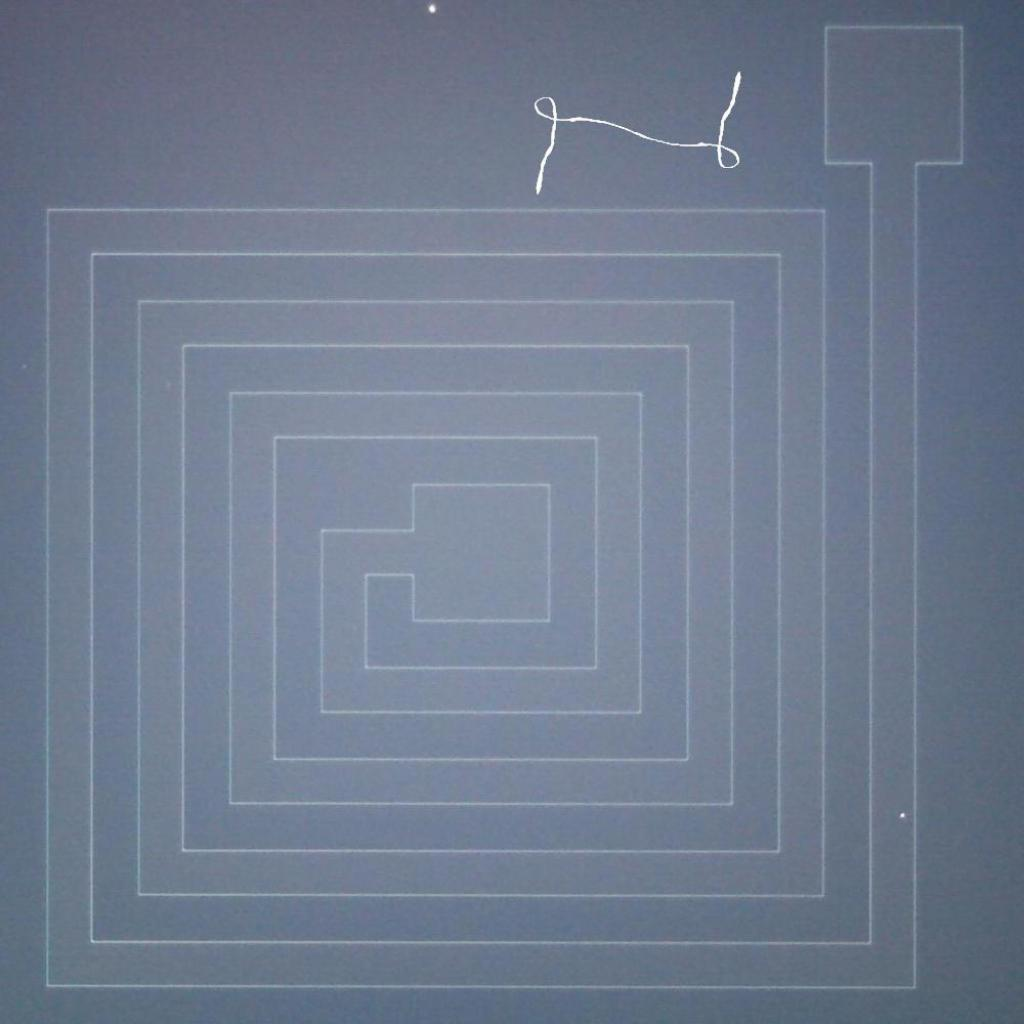dot: (889, 801, 911, 831), (418, 1, 446, 19)
line: (525, 58, 759, 202)
